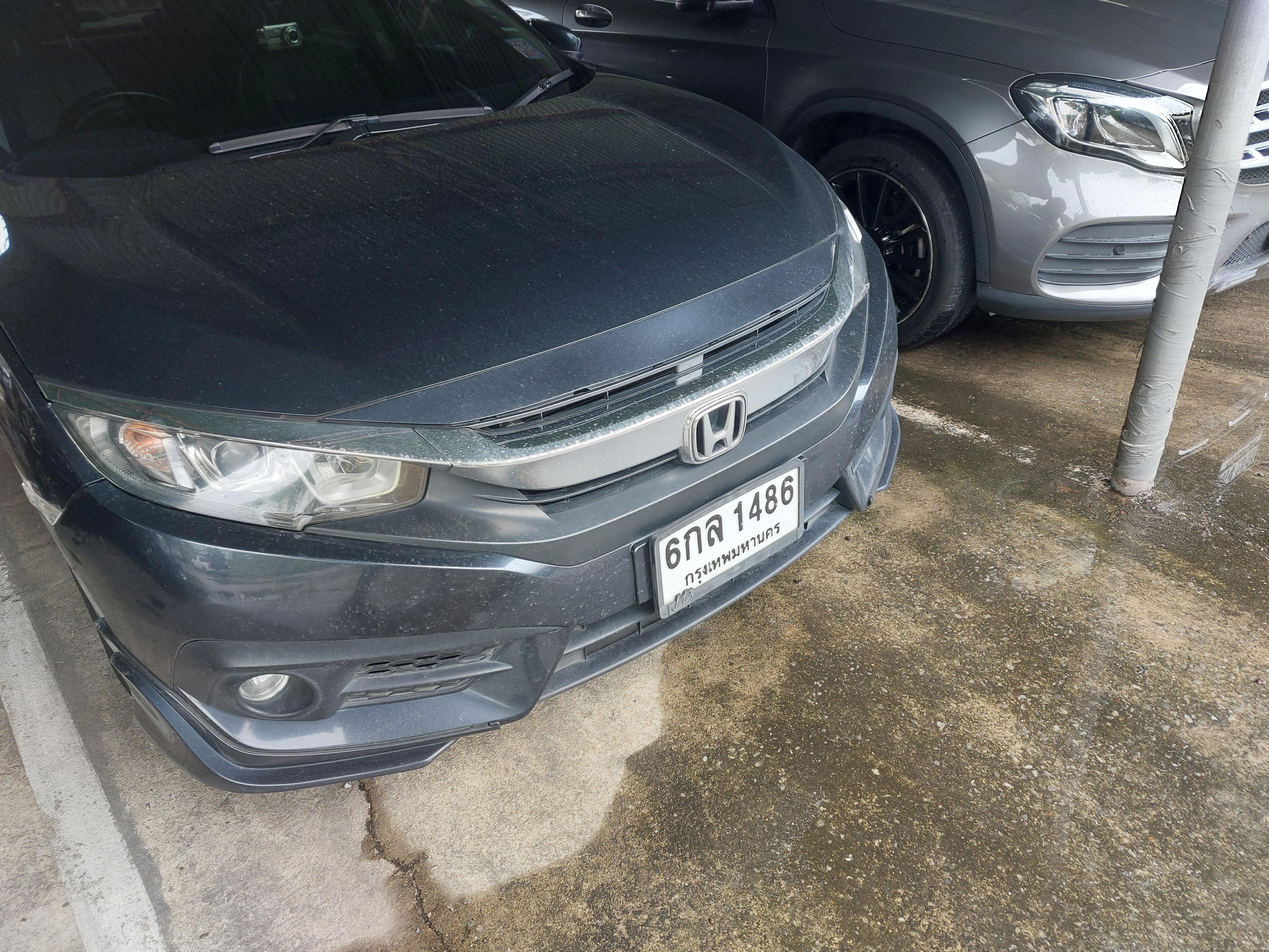license-plate: (645, 454, 809, 623)
